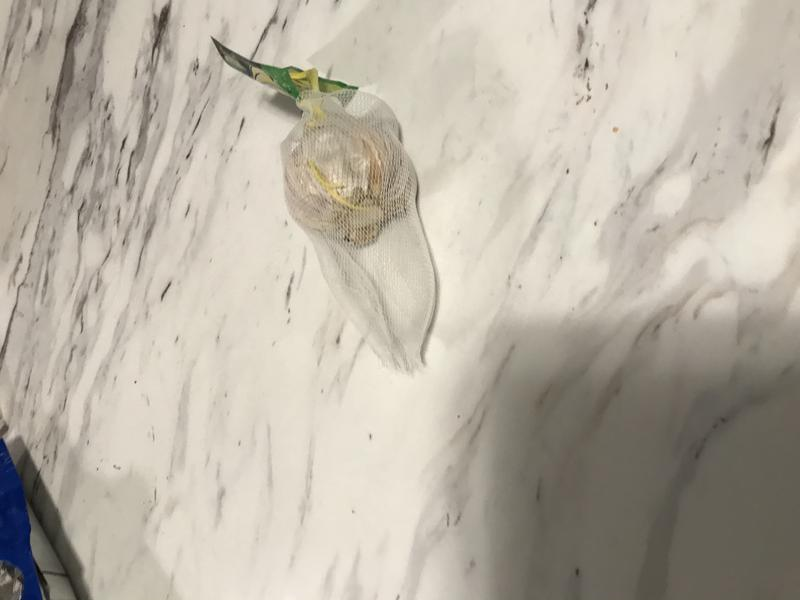garlic: (280, 105, 420, 253)
